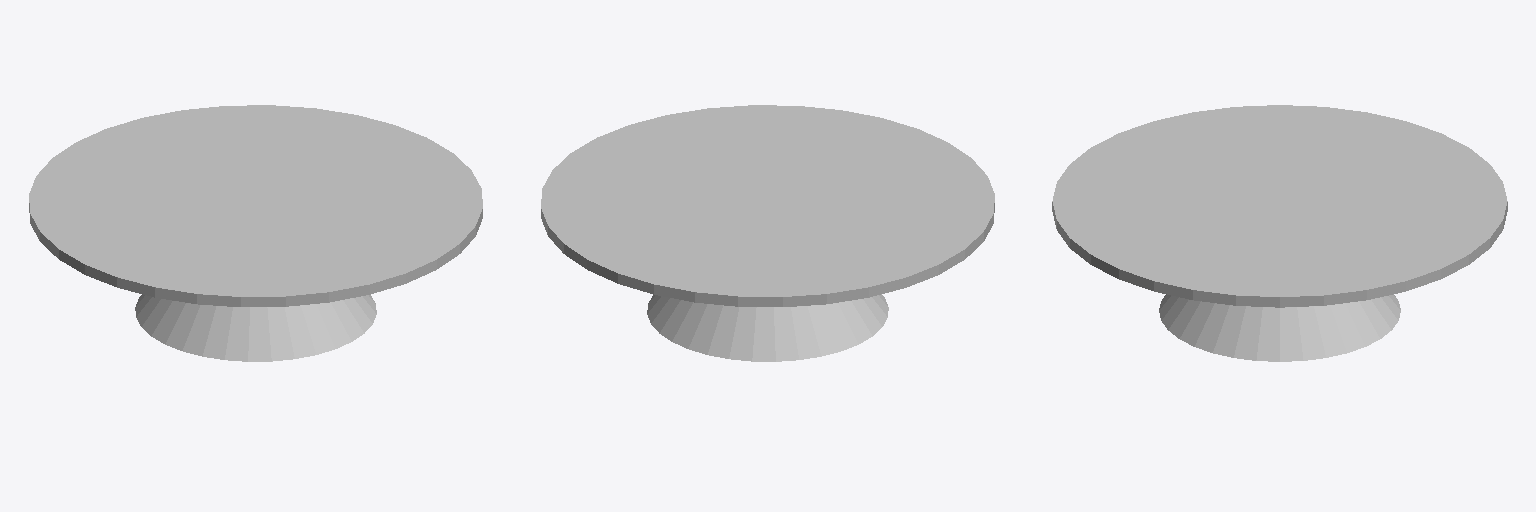
The model's file is tafel.obj.
The picture shows the model from 3 angles: view 1: azimuth 30°, elevation 25°; view 2: azimuth 150°, elevation 25°; view 3: azimuth 270°, elevation 25°; orthographic projection.
Visible parts, largest first — view 1: tafel_Cylinder; view 2: tafel_Cylinder; view 3: tafel_Cylinder.
Boxes of the visible parts, x1,y1,x2,y2 form: tafel_Cylinder: [29, 105, 482, 361]; tafel_Cylinder: [541, 105, 994, 361]; tafel_Cylinder: [1052, 105, 1507, 361].
Size of the model in its own units: 5.37 by 1.43 by 5.37.